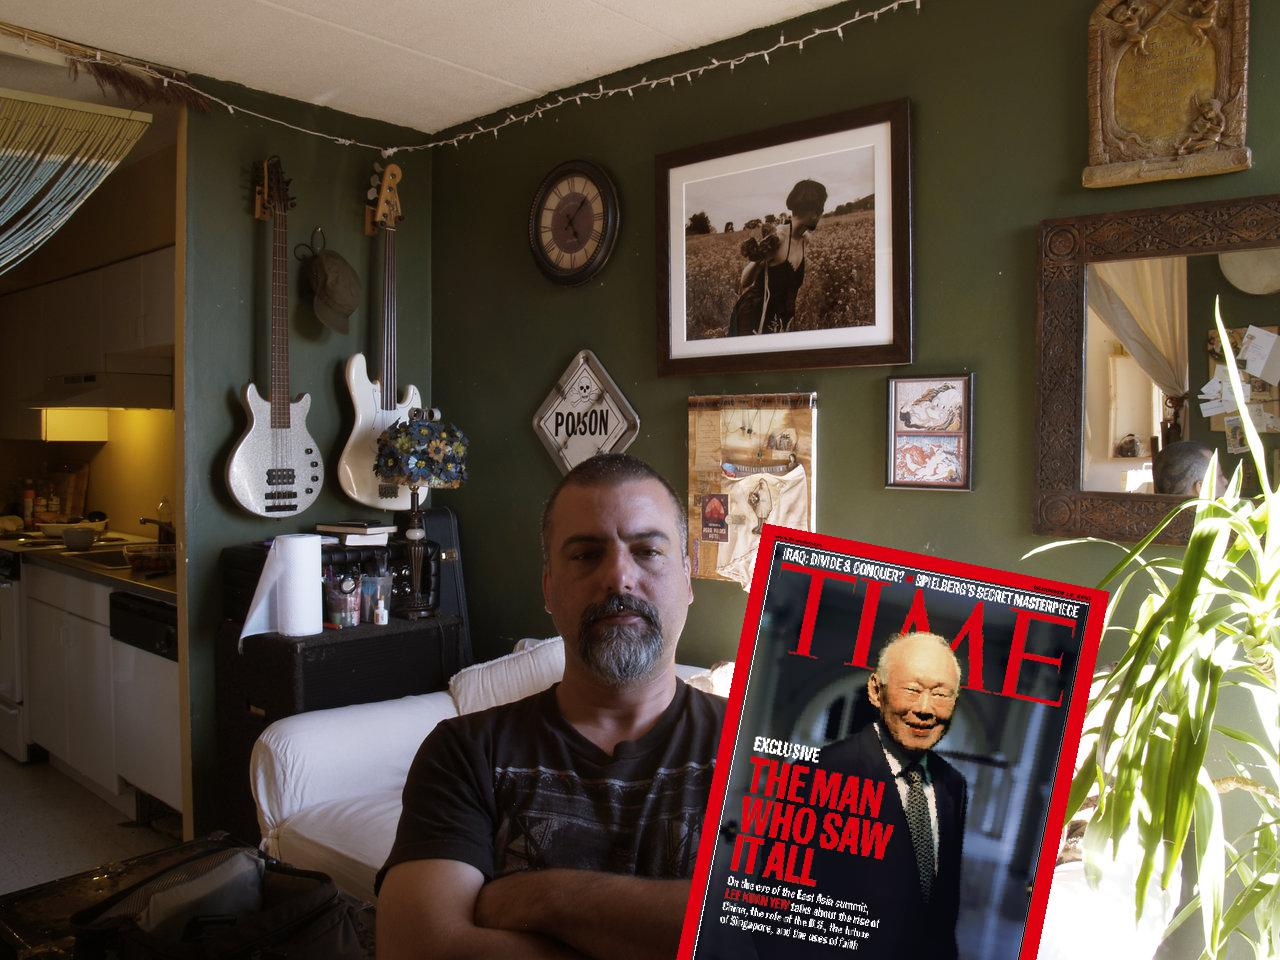times: (670, 518, 1113, 960)
